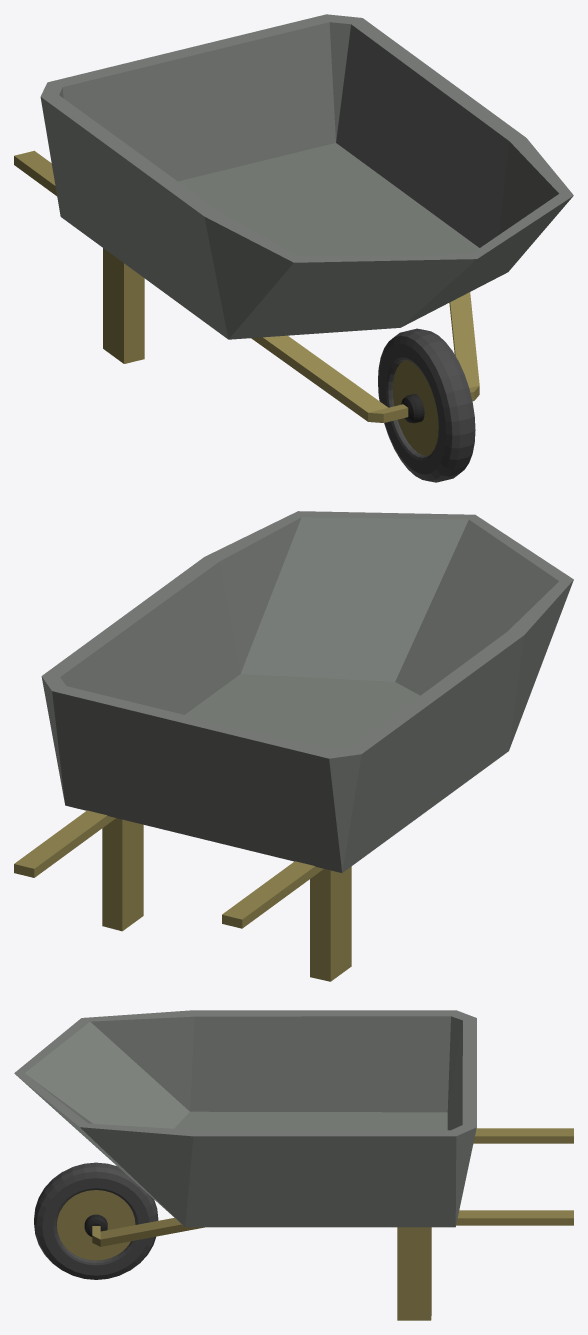
File: wheelbarrow01.fbx
3 views of the same model, one above another, from view 1: azimuth 30°, elevation 25°; view 2: azimuth 150°, elevation 25°; view 3: azimuth 270°, elevation 25° (orthographic). The views are drawn at different scales.
Visible parts, largest first — view 1: Cylinder, Cylinder.013; view 2: Cylinder; view 3: Cylinder, Cylinder.013.
Part boxes in pixels (box(x1,y1,x2,y2)): Cylinder: box(14, 14, 573, 422); Cylinder.013: box(378, 328, 475, 482); Cylinder: box(14, 511, 573, 981); Cylinder: box(14, 1010, 573, 1320); Cylinder.013: box(34, 1162, 158, 1279).
Size of the model in its own units: 0.7734 by 0.5836 by 1.45.
